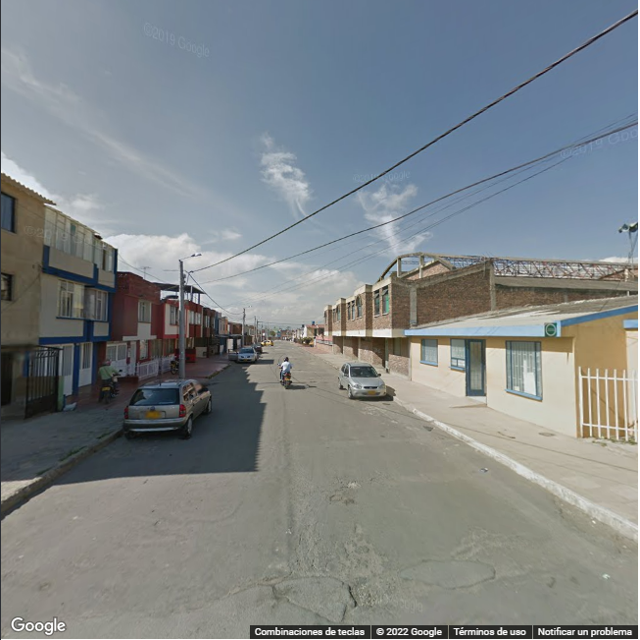D10: (134, 580, 264, 621), (488, 560, 580, 580)
D40: (343, 573, 403, 609)
